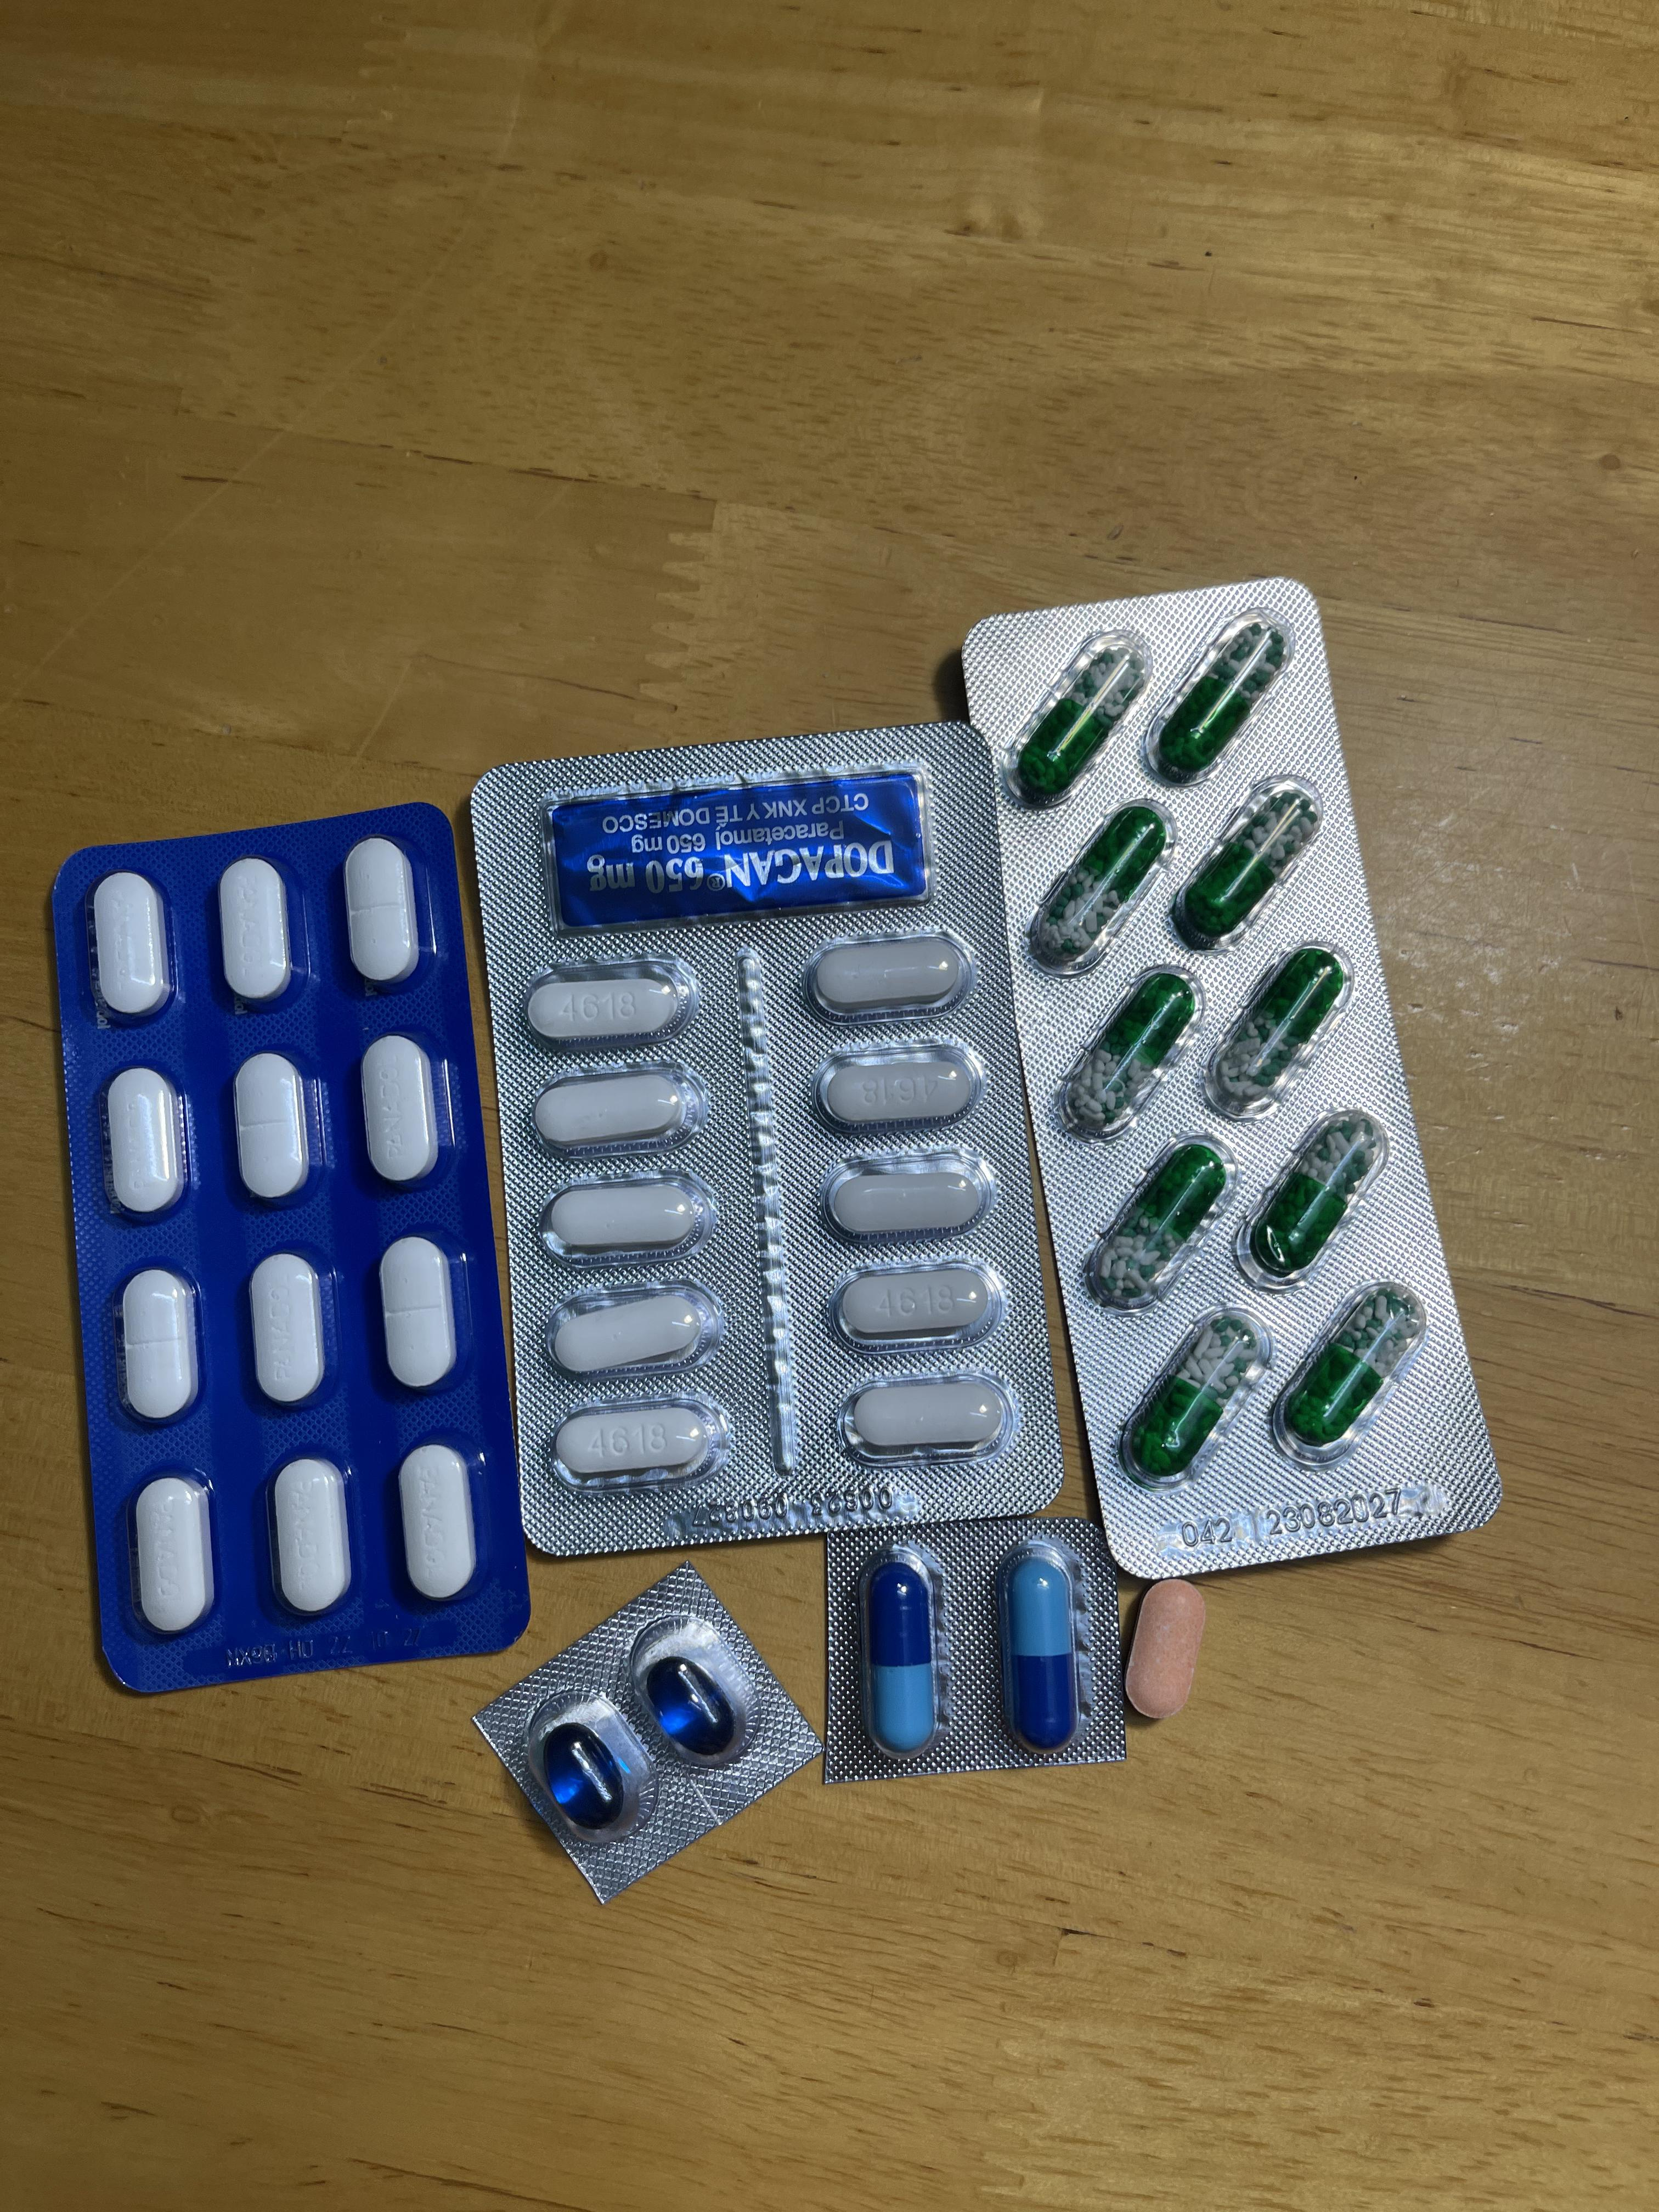Lincomyxin_500mg: (648, 1655, 737, 1752), (544, 1723, 627, 1825)
Loratadine_10mg: (1126, 1578, 1204, 1719)
Paracetamol_350mg: (131, 1474, 213, 1637), (270, 1454, 352, 1618), (117, 1266, 200, 1425), (103, 1066, 186, 1221), (247, 1251, 329, 1407), (397, 1442, 477, 1601), (232, 1052, 314, 1205), (378, 1237, 458, 1392), (361, 1036, 441, 1188), (91, 871, 171, 1021), (343, 838, 420, 988), (218, 857, 295, 1007)
Paracetamol_500mg: (549, 1397, 727, 1491), (544, 1284, 720, 1376), (821, 1150, 995, 1238), (521, 960, 695, 1045), (831, 1261, 1004, 1346), (814, 1042, 983, 1129), (537, 1176, 713, 1259), (802, 932, 972, 1017), (840, 1374, 1011, 1460), (530, 1068, 699, 1150)
Paracetamol_650mg: (1173, 775, 1326, 949), (1244, 1106, 1391, 1282), (1086, 1137, 1234, 1308), (1208, 944, 1352, 1116), (1007, 631, 1148, 805), (1283, 1282, 1429, 1449), (1026, 801, 1171, 970), (1148, 613, 1290, 784), (1061, 968, 1201, 1136), (1129, 1312, 1263, 1475)
pill: (1006, 1554, 1079, 1749), (864, 1554, 936, 1752)
